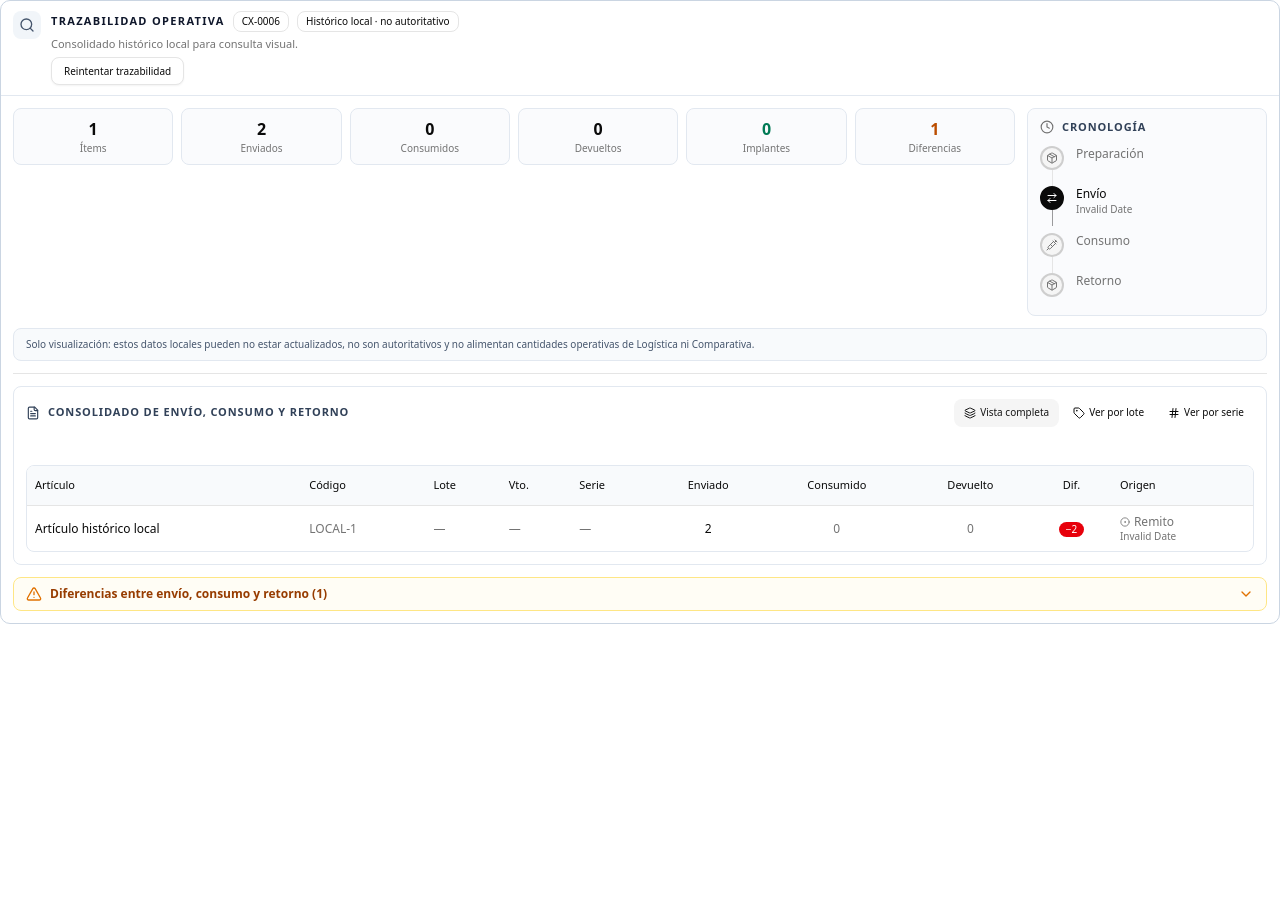
Test case: Trace backend ID and fallback hardening › provides accessible fallback and retry component evidence at desktop-like viewport
Expected: the text "Histórico local · no autoritativo" is shown, [297, 11, 459, 32]
Expected: the text "Solo visualización" is shown, [26, 336, 754, 350]
Click the button "Reintentar trazabilidad".
click(118, 71)  # box [51, 57, 184, 85]
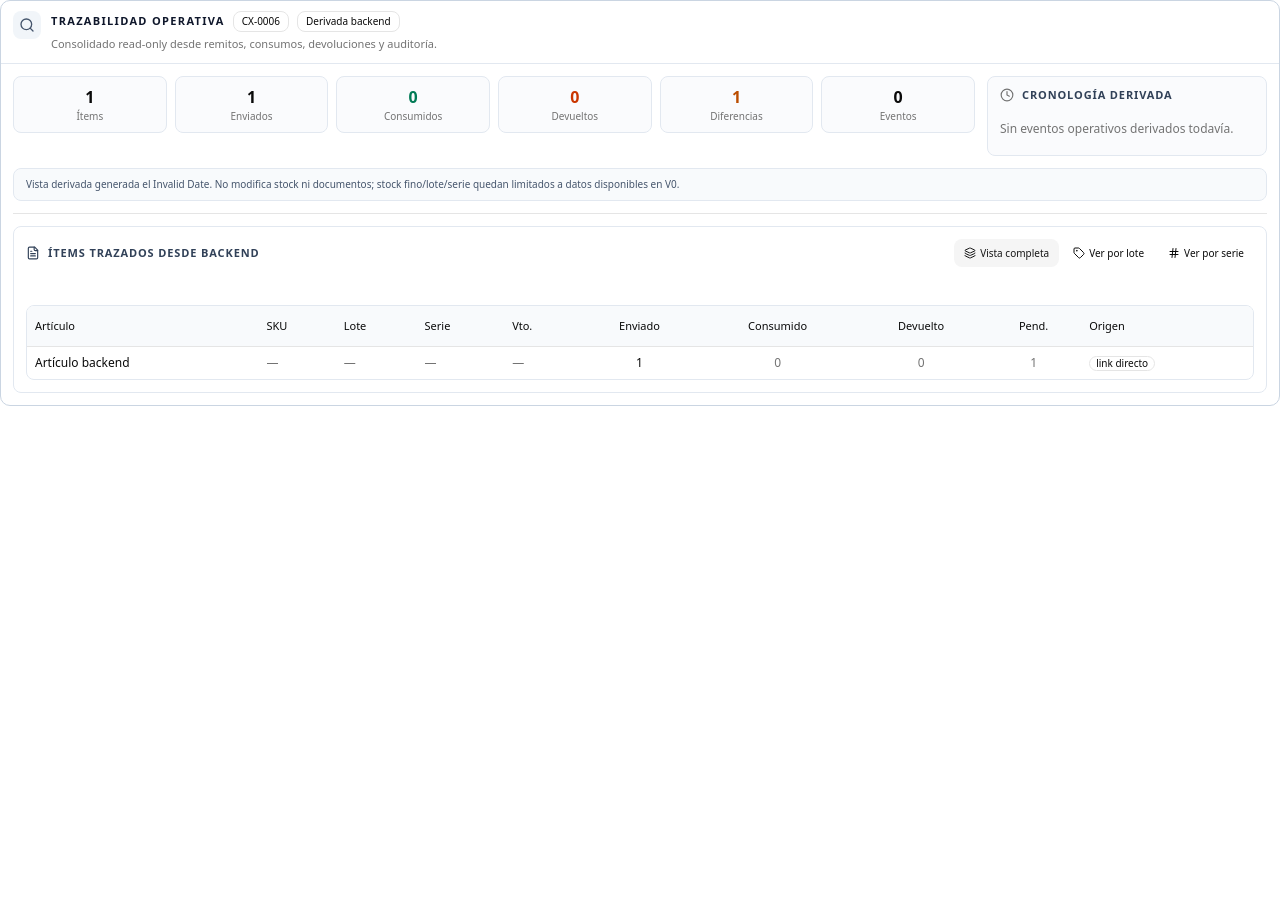
Result: the text "Artículo backend" is shown at [35, 354, 130, 371]
Result: the text "Histórico local · no autoritativo" is gone
Result: the text "Artículo histórico local" is gone
